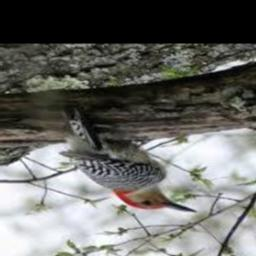Woodpecker: (60, 107, 197, 213)
